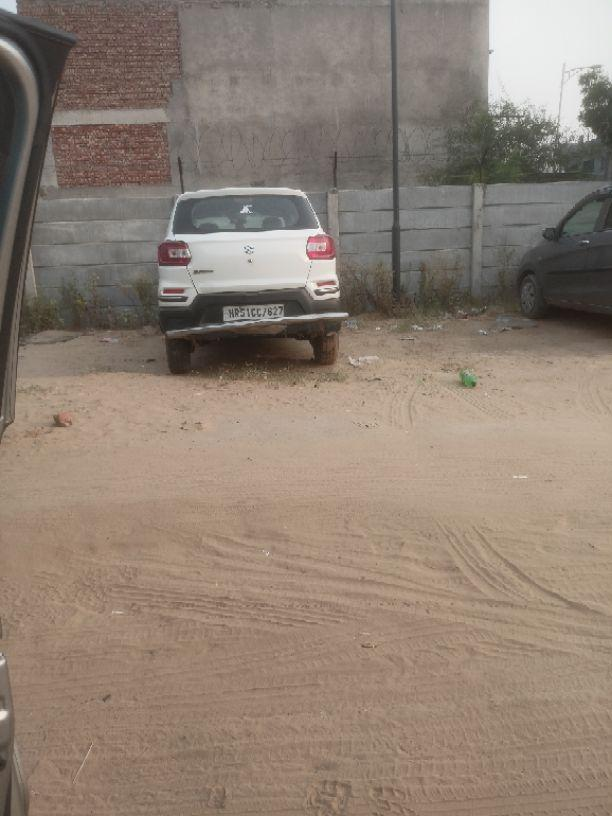license_plate: (220, 302, 285, 323)
